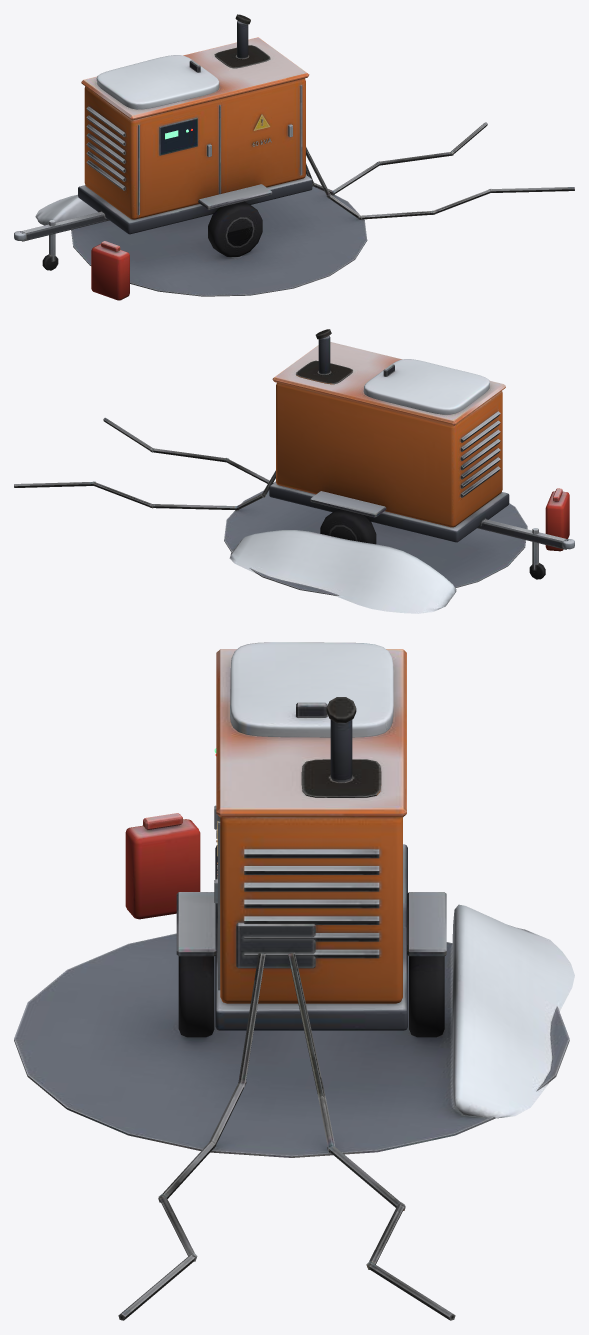
Rendered from generator.glb.
The picture shows the model from 3 angles, top to bottom: view 1: azimuth 30°, elevation 25°; view 2: azimuth 150°, elevation 25°; view 3: azimuth 270°, elevation 25°; orthographic projection. The views are drawn at different scales.
Visible parts, largest first — view 1: generator; view 2: generator; view 3: generator.
Boxes of the visible parts, bbox=[...] form: generator: bbox=[14, 14, 574, 300]; generator: bbox=[14, 329, 574, 613]; generator: bbox=[14, 642, 574, 1320].
Size of the model in its own units: 5.53 by 2.07 by 2.83.
3 materials, 1 textured.
